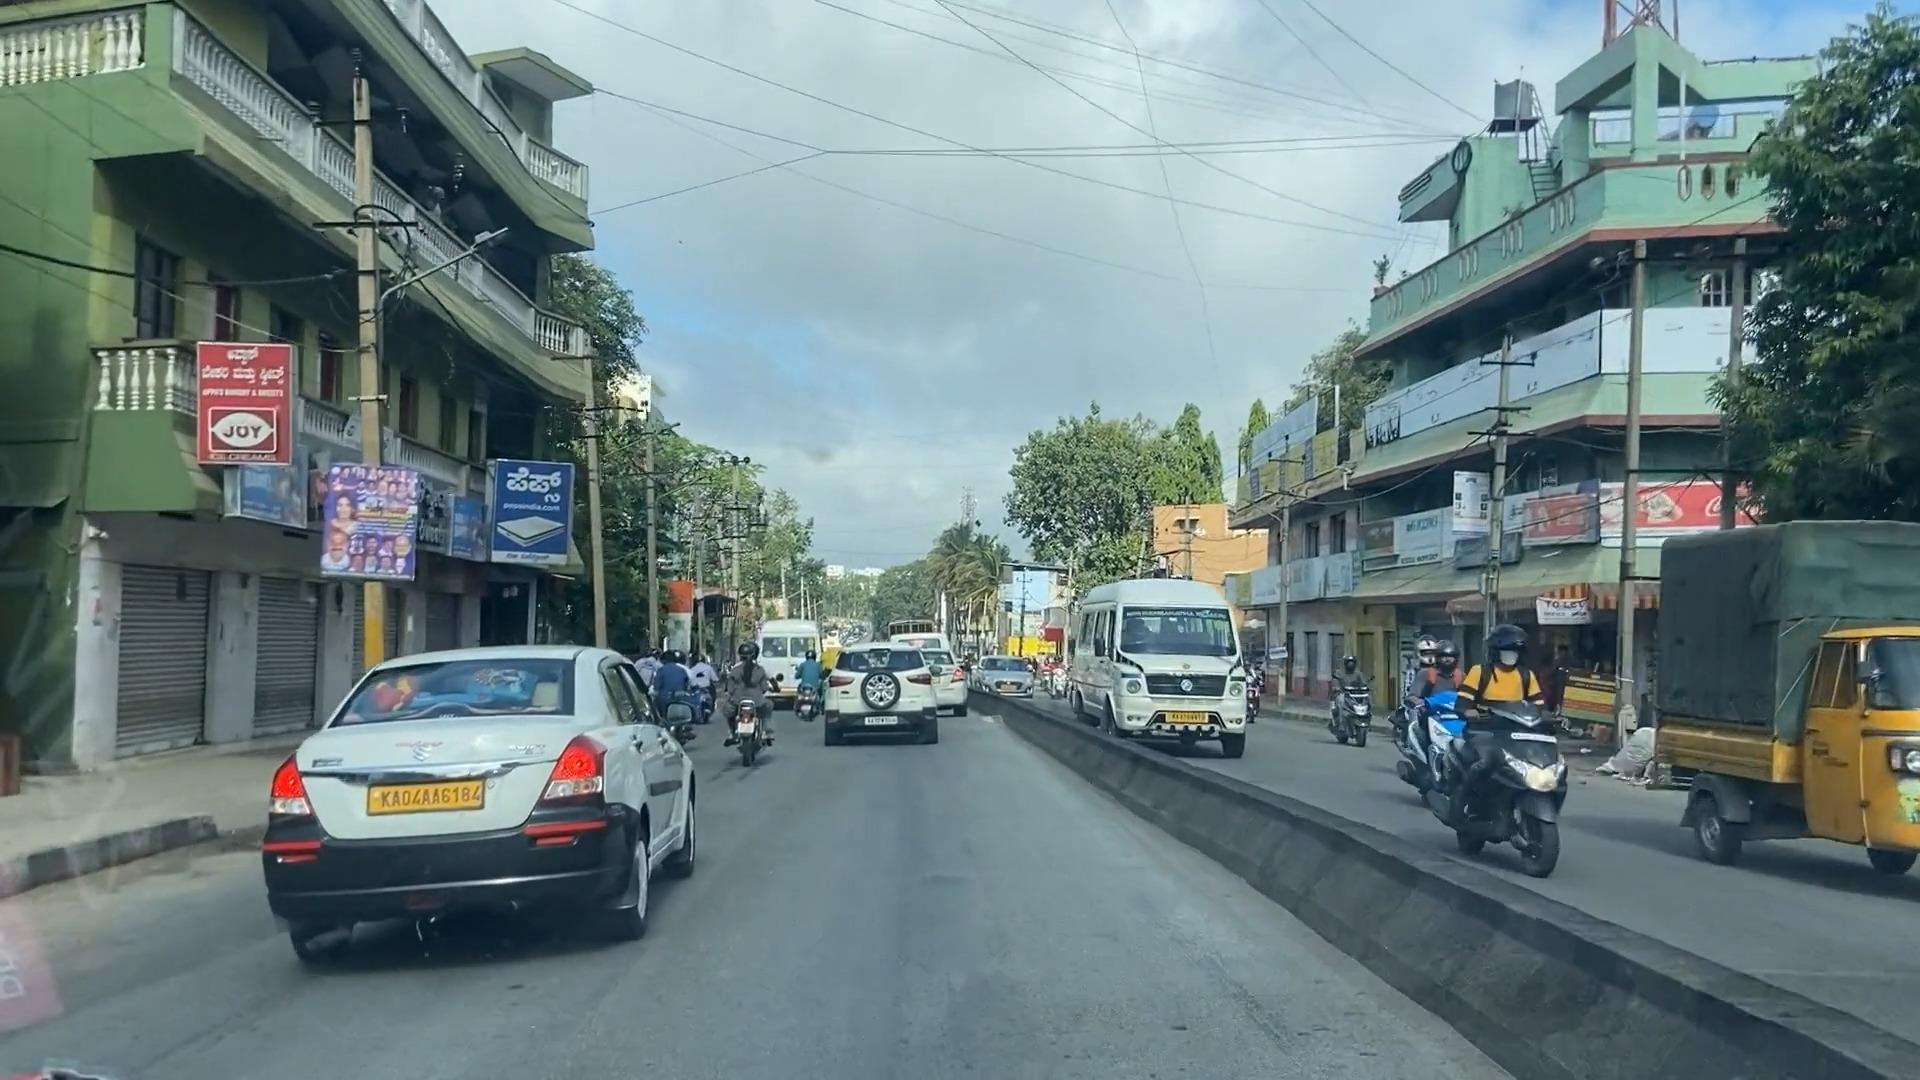LMV: (268, 651, 696, 972), (825, 645, 936, 745), (736, 649, 766, 771)
